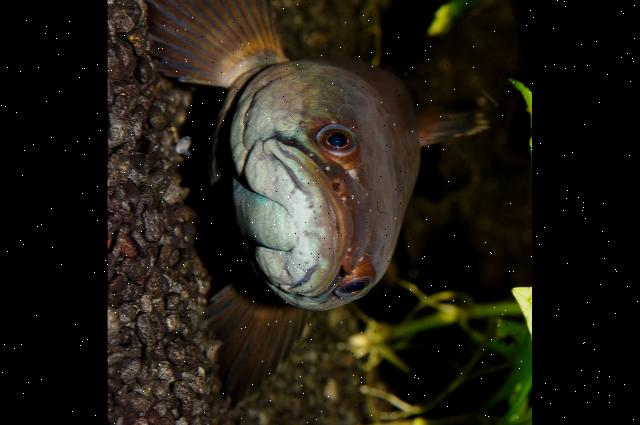Mulut: (262, 116, 356, 326)
Sirip Dada: (192, 276, 326, 414), (124, 0, 288, 106)
Sirip Punggung: (401, 59, 496, 192)
